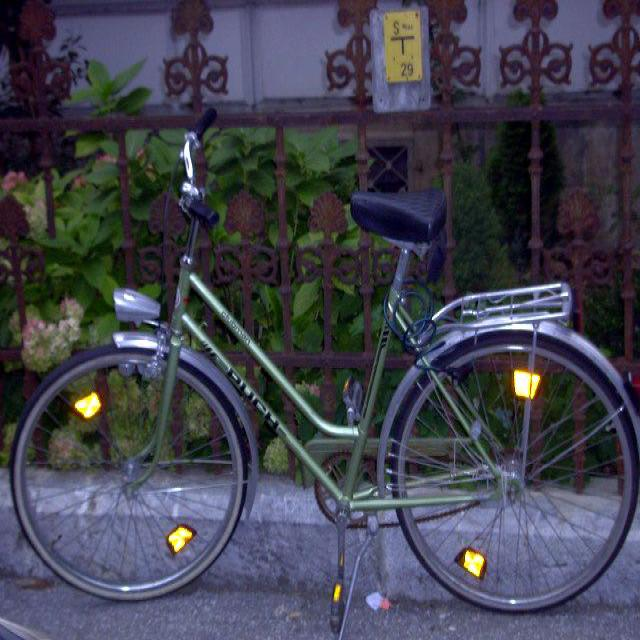bicycle: (8, 105, 638, 632)
